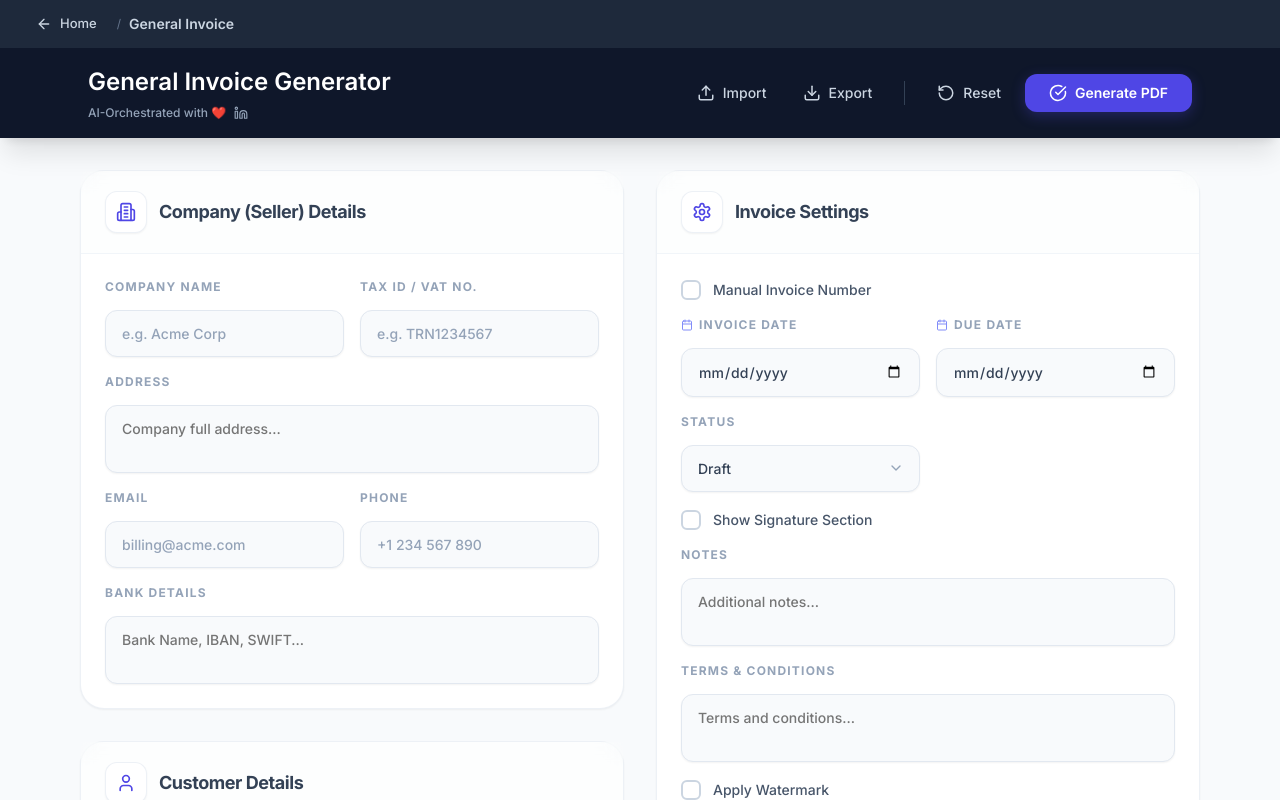
Test: GeneralInvoiceModule › handles PDF generation error
Type "Valid Company" into the field with placeholder "e.g. Acme Corp" at (224, 333), box [105,310,344,356]
(page scrolled)
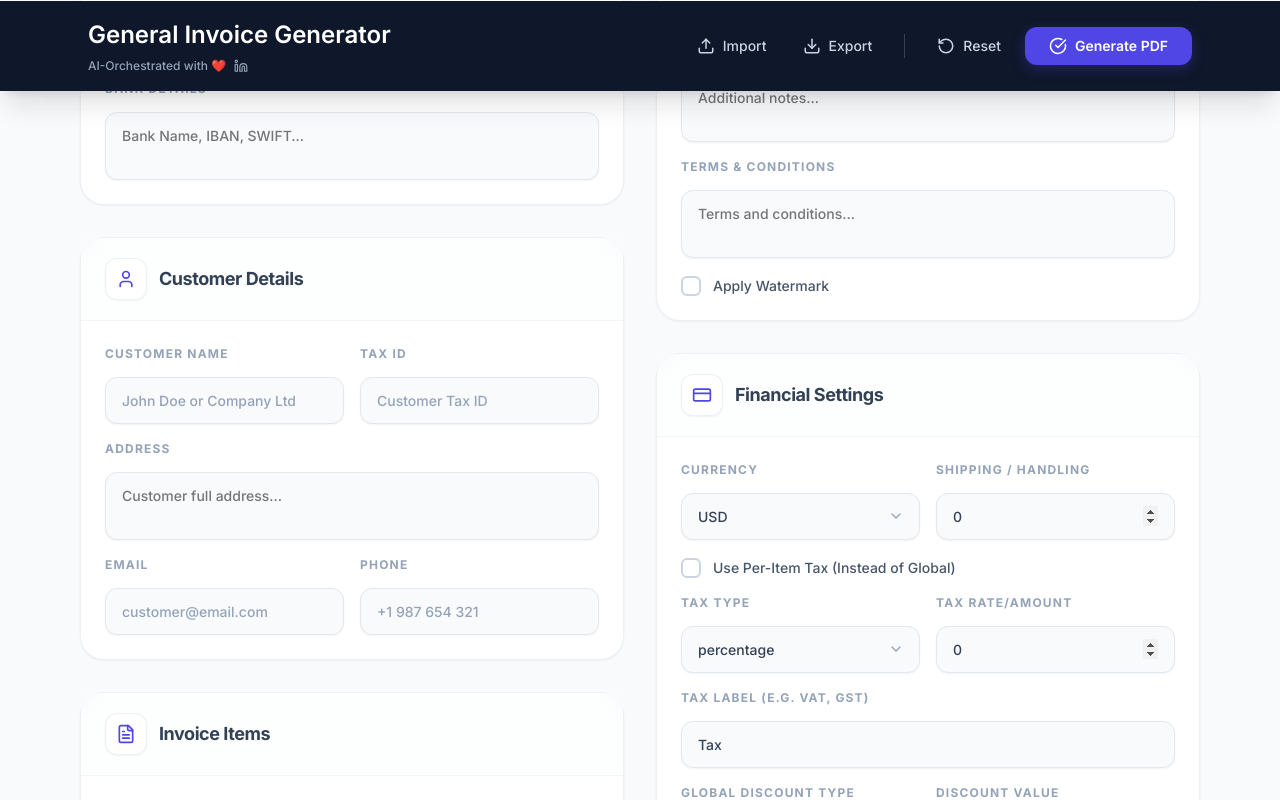
Type "Valid Customer" into the field with placeholder "John Doe or Company Ltd" at (224, 400), box [105,376,344,424]
(page scrolled)
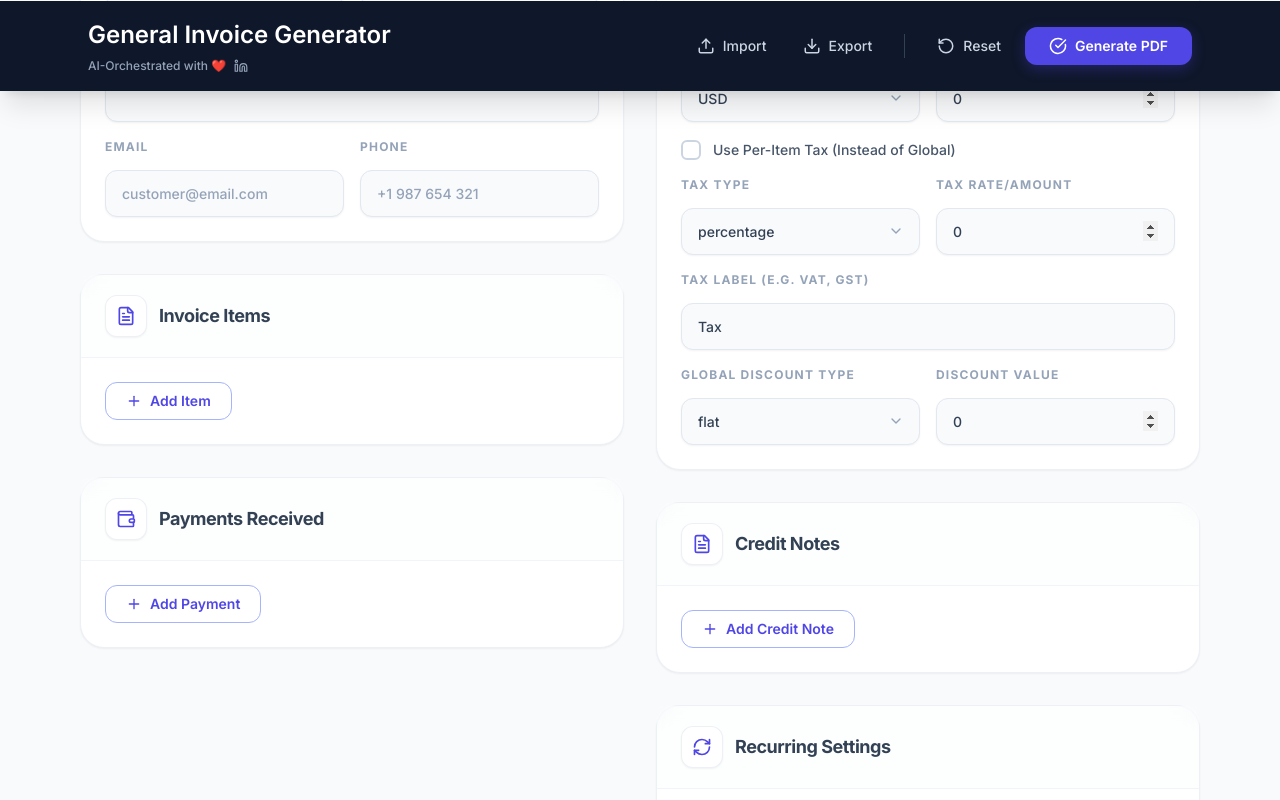
Click the button "Add Item" at (168, 400), box [105,382,232,420]
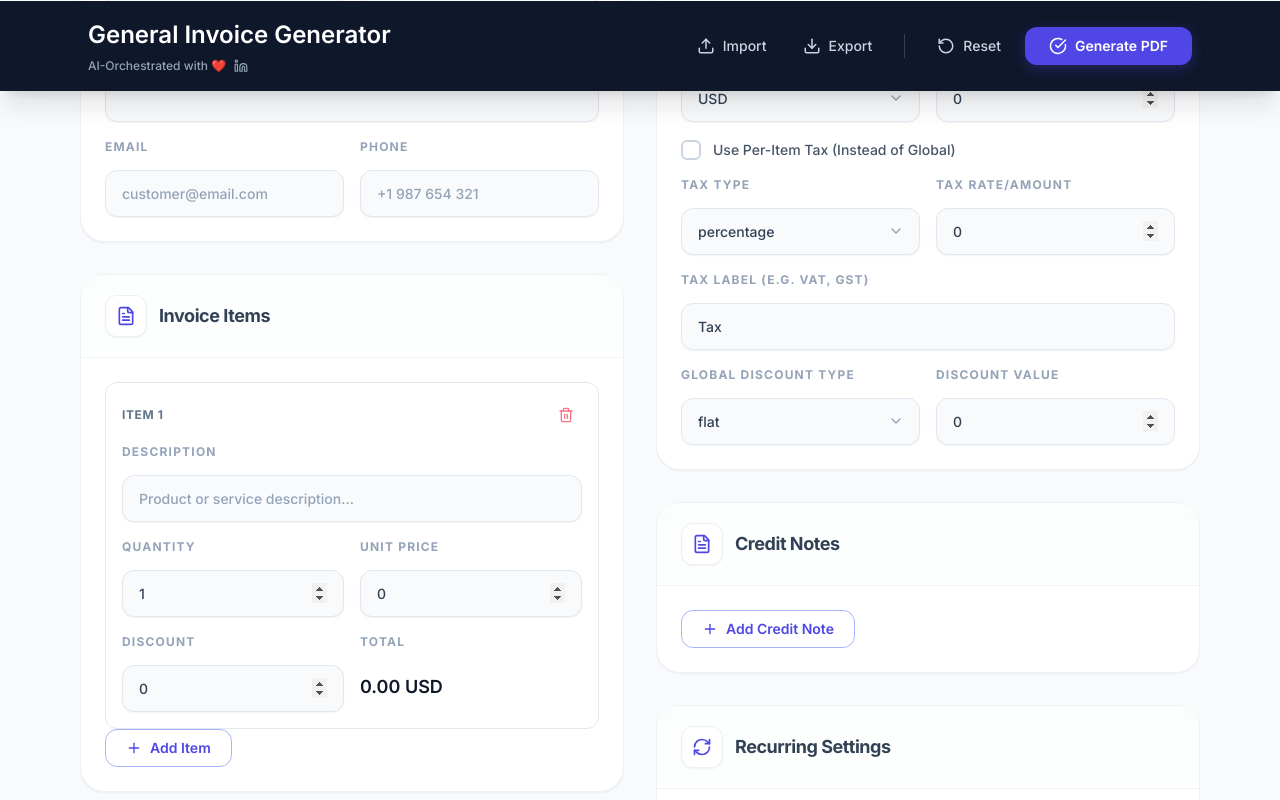
Click the button "Generate PDF" at (1108, 45), box [1025,26,1192,64]
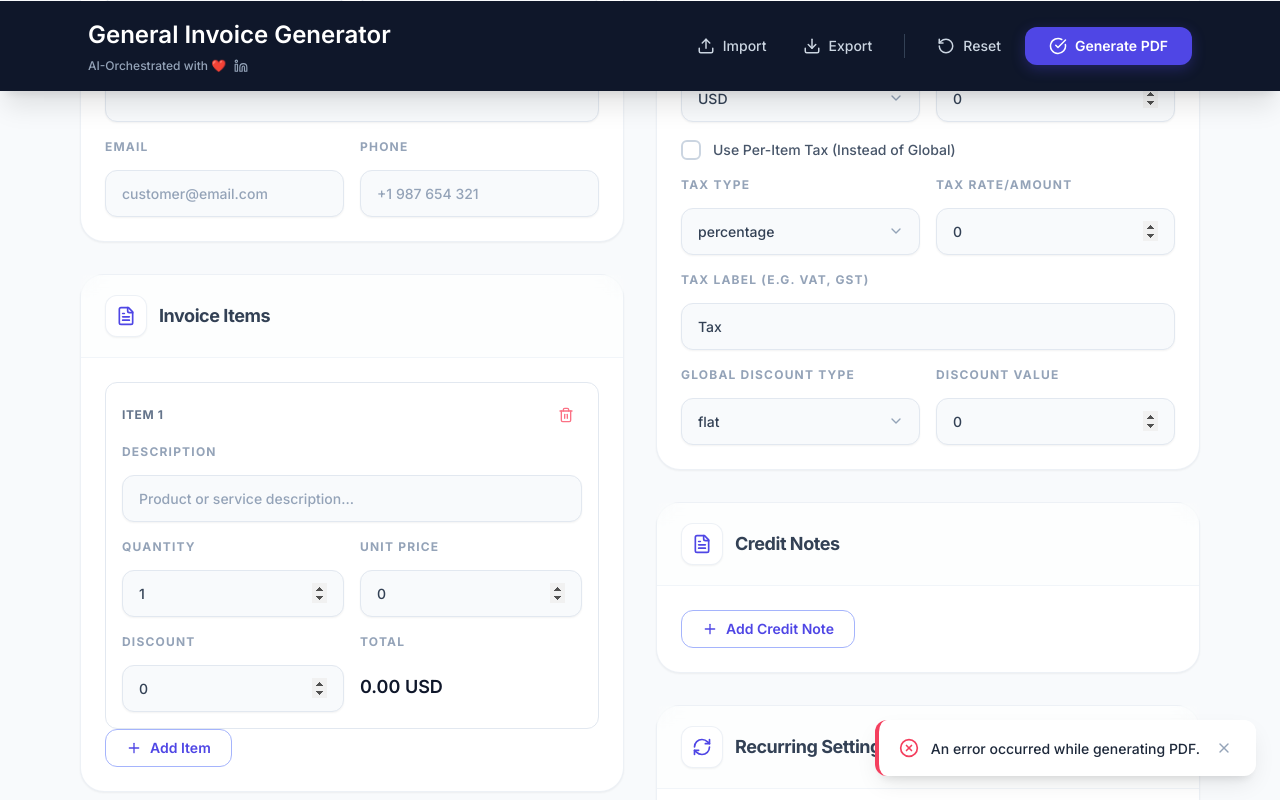
Now the text "An error occurred while generating PDF." is shown, box [931,738,1200,758]
